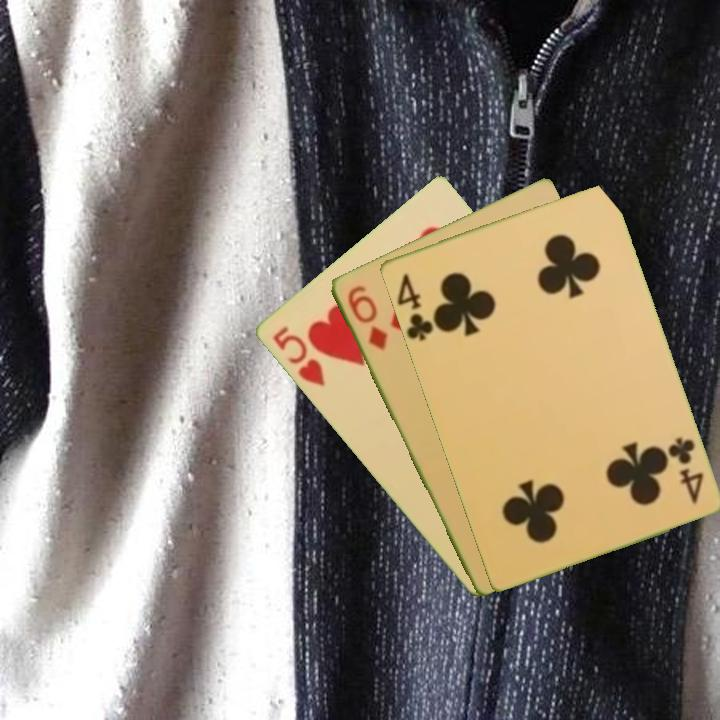4c: (393, 269, 436, 345), (664, 433, 706, 507)
5h: (268, 322, 327, 390)
6d: (343, 281, 391, 353)
